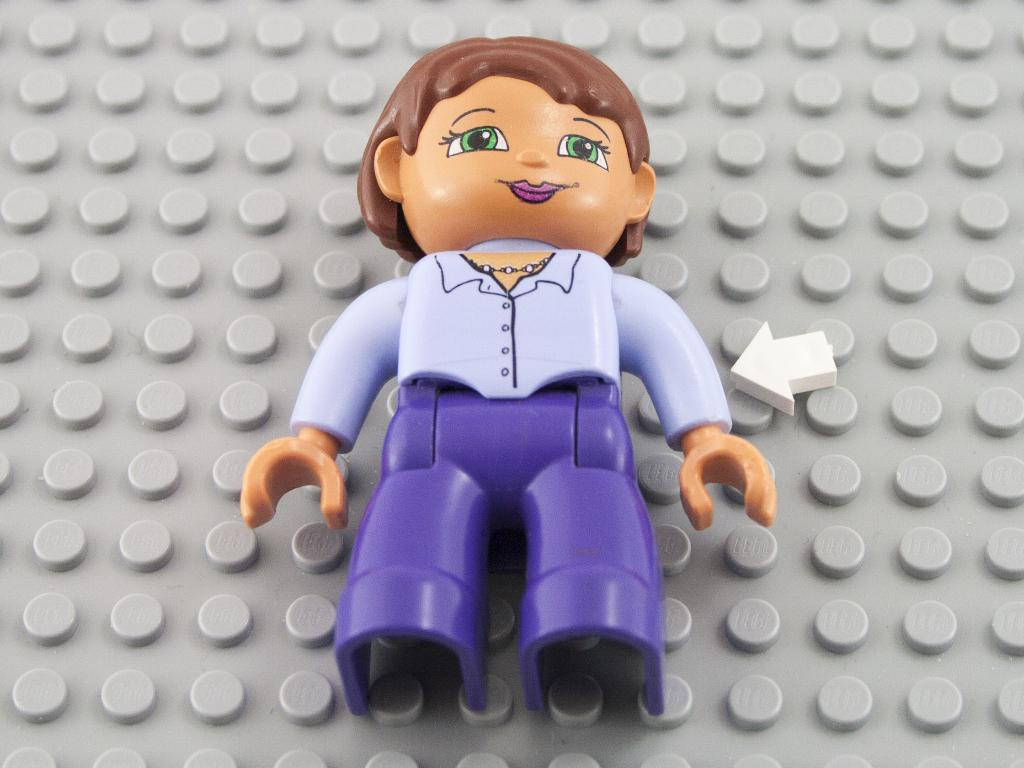Human_hand: (664, 390, 781, 561), (237, 435, 351, 534)
